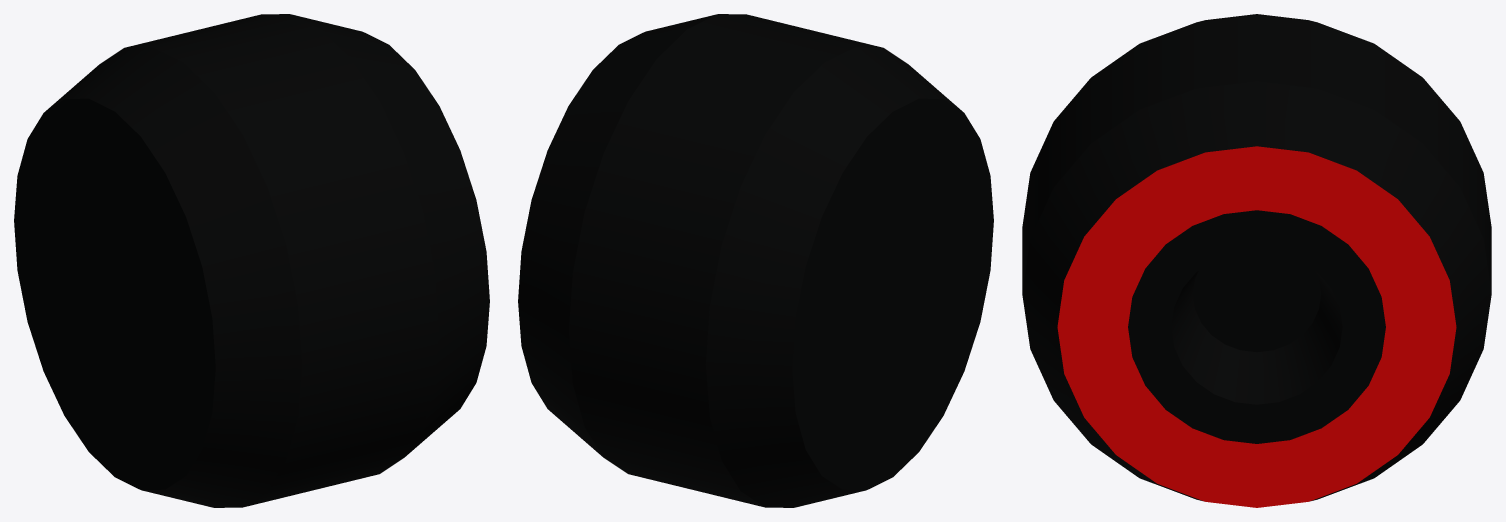
File: wheel-racing.glb
3 views of the same model, side by side, from view 1: azimuth 30°, elevation 25°; view 2: azimuth 150°, elevation 25°; view 3: azimuth 270°, elevation 25° (orthographic).
Parts seen in each view (by area): view 1: wheel-racing; view 2: wheel-racing; view 3: wheel-racing.
Boxes of the visible parts, x1,y1,x2,y2 form: wheel-racing: [14, 14, 489, 507]; wheel-racing: [518, 14, 993, 507]; wheel-racing: [1022, 14, 1491, 507].
Bounding box in the file's own units: 0.4001 × 0.6 × 0.6.
Materials: 1 (1 with a texture image).
